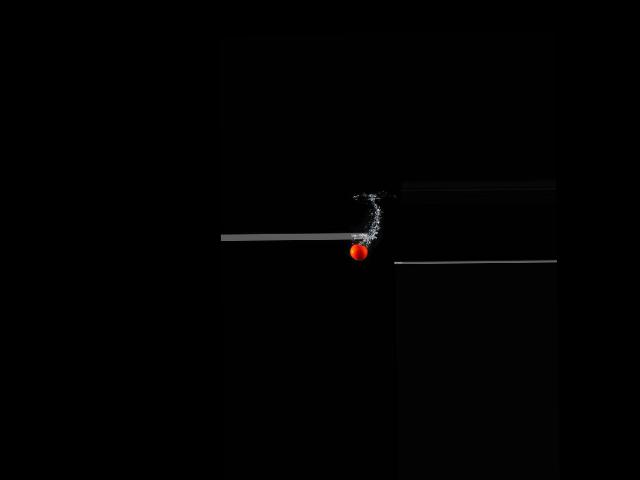tomato: (349, 243, 367, 260)
